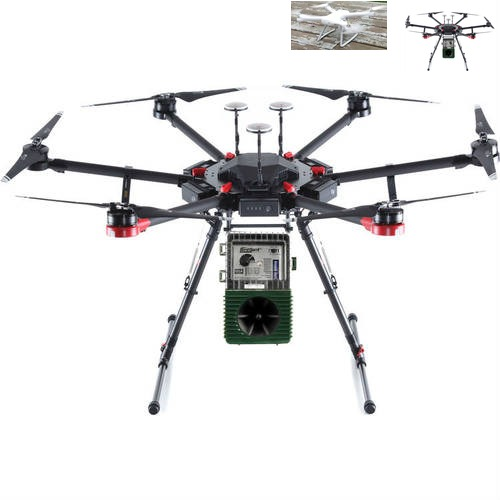drone: (0, 85, 500, 413), (405, 8, 495, 74), (291, 1, 387, 50)
